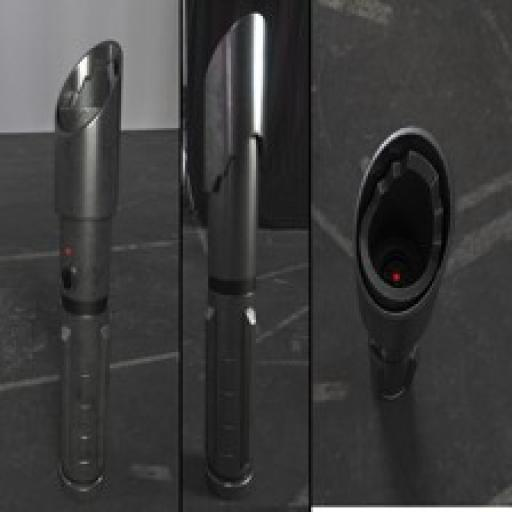lightsaber: (33, 30, 133, 493), (190, 7, 276, 502), (338, 116, 462, 403)
